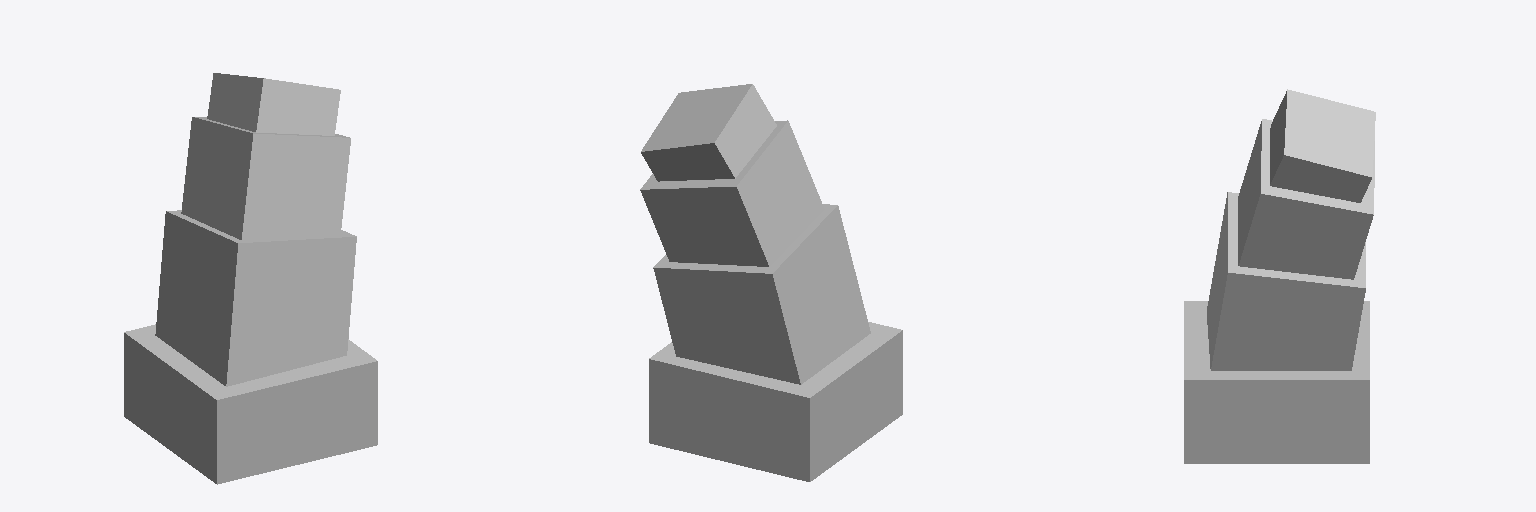
Rendered from pillar_ne.obj.
3 renders of one model, left to right at view 1: azimuth 30°, elevation 25°; view 2: azimuth 150°, elevation 25°; view 3: azimuth 270°, elevation 25°, orthographic.
Parts seen in each view (by area): view 1: second, base, third, top; view 2: base, second, third, top; view 3: base, second, third, top.
Part boxes in pixels (x1,y1,x2,y2): second: (155, 210, 356, 386); base: (124, 324, 377, 484); third: (181, 117, 350, 239); top: (207, 73, 340, 135); base: (649, 322, 902, 481); second: (653, 204, 870, 384); third: (640, 120, 824, 266); top: (641, 84, 776, 181); base: (1184, 301, 1369, 463); second: (1207, 192, 1365, 370); third: (1238, 119, 1374, 279); top: (1270, 89, 1375, 202).
Bounding box in the file's own units: 1.08 × 2.04 × 1.03.